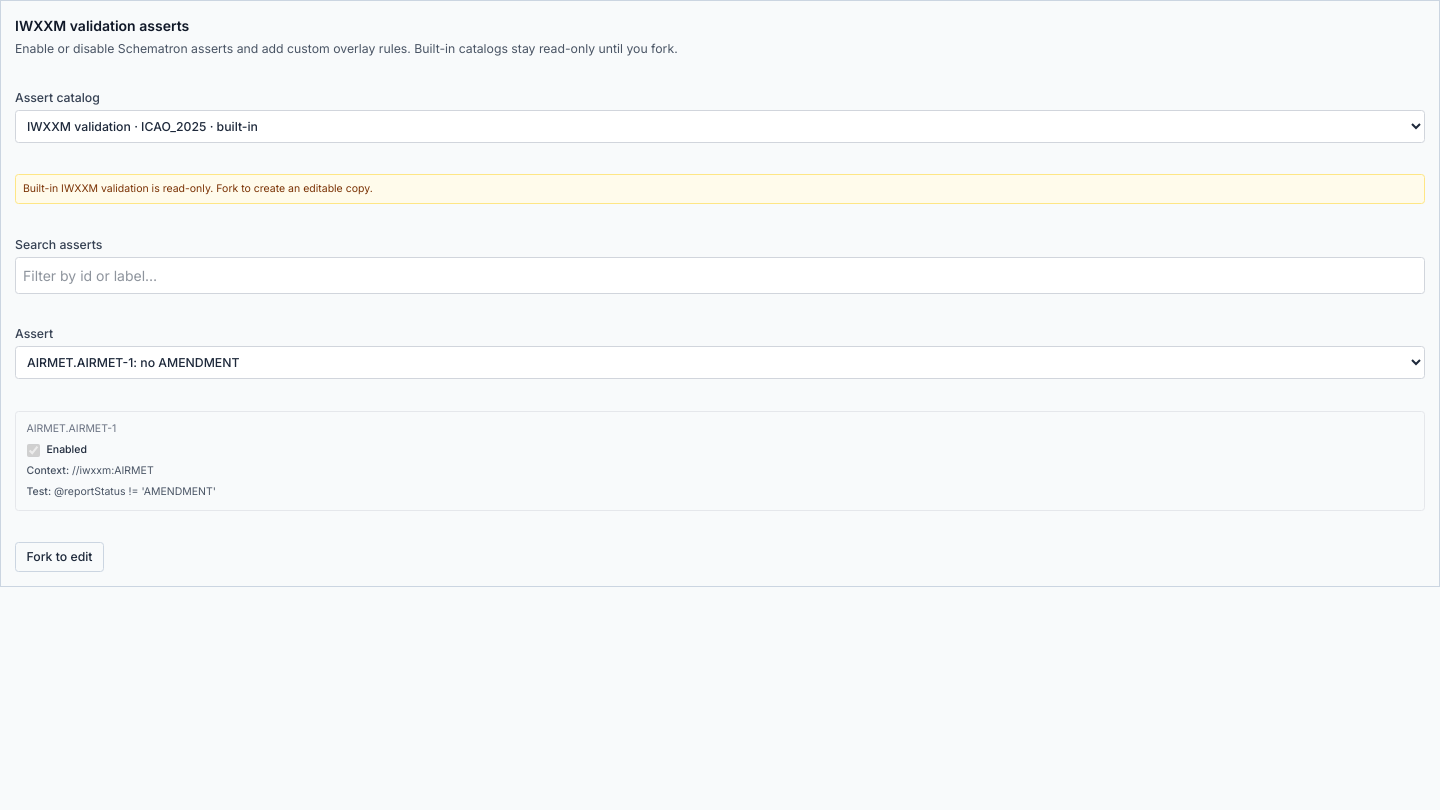
Test: IwxxmValidationRulesPanel › forks foundation and adds custom overlay (TC-EVWB-IWXXM-004)
The width and height of the screenshot is (1440, 810).
Click the button with test id "iwxxm-validation-rules-fork": (60, 557) top-left (15, 542), bottom-right (104, 572)
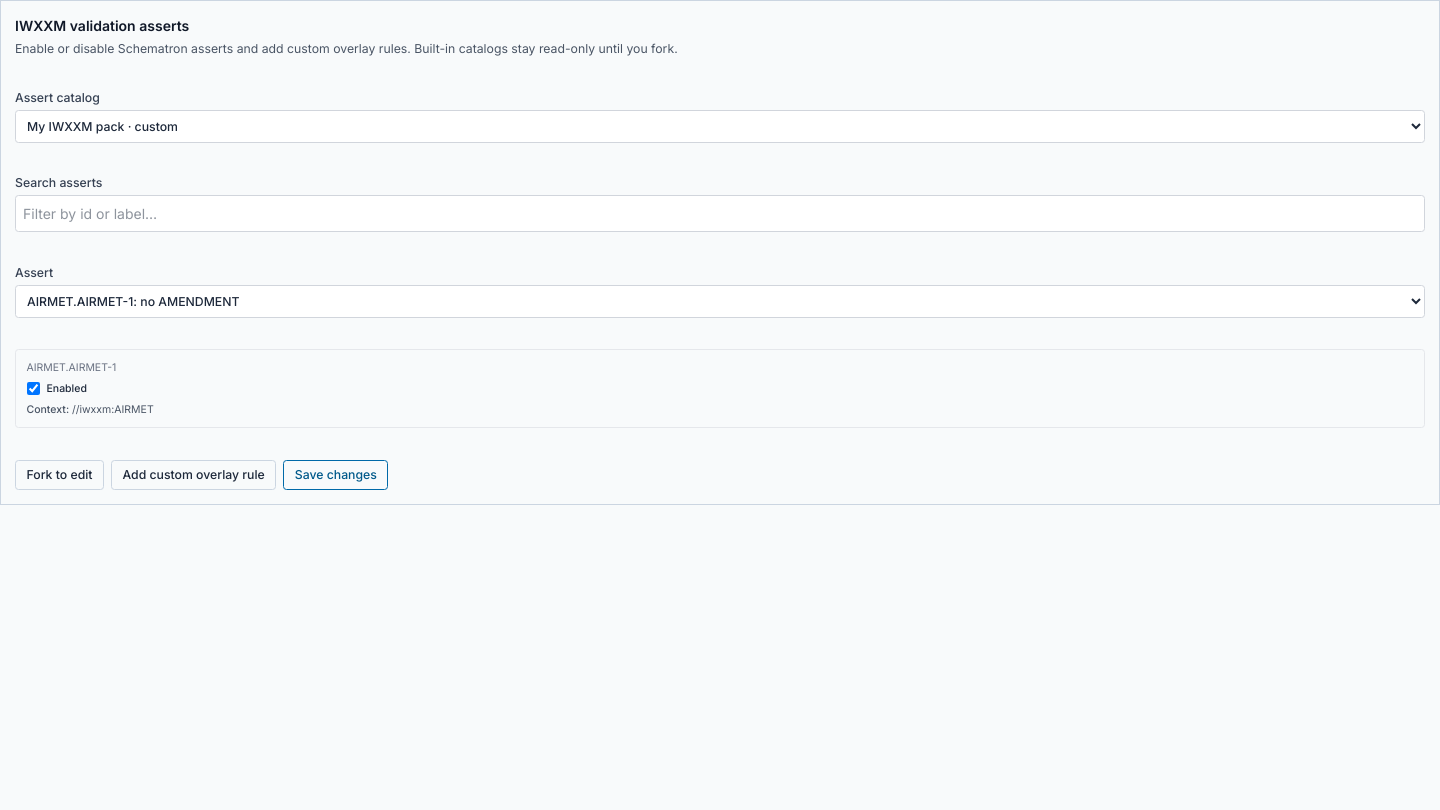
Now the button with test id "iwxxm-validation-rules-add" is shown
Click the button with test id "iwxxm-validation-rules-add": (194, 474) top-left (111, 460), bottom-right (276, 490)
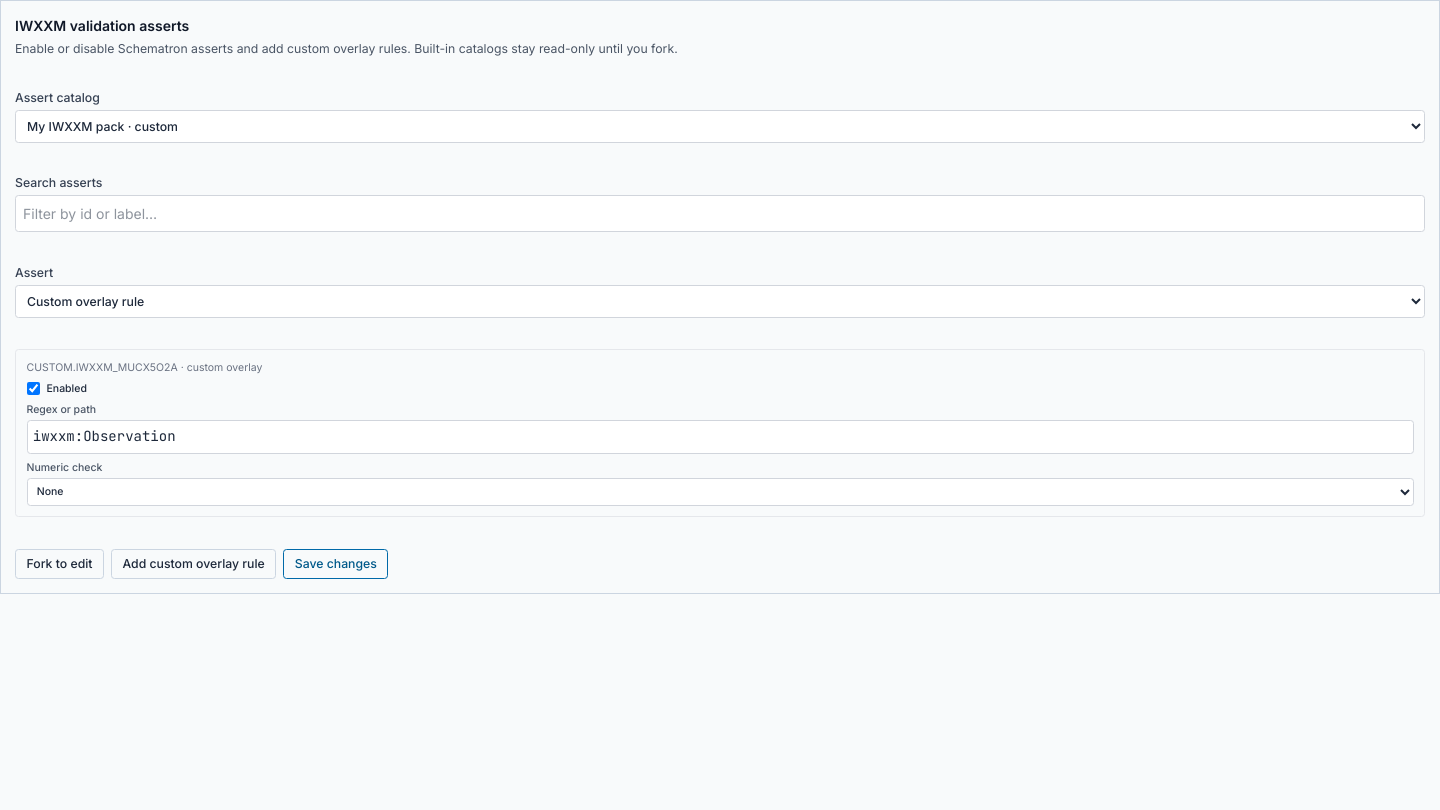
Now the text with test id "iwxxm-validation-rule-id" shows "CUSTOM.IWXXM_", box top-left (26, 360), bottom-right (178, 374)
